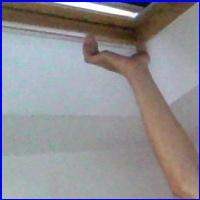space: (79, 21, 158, 78)
